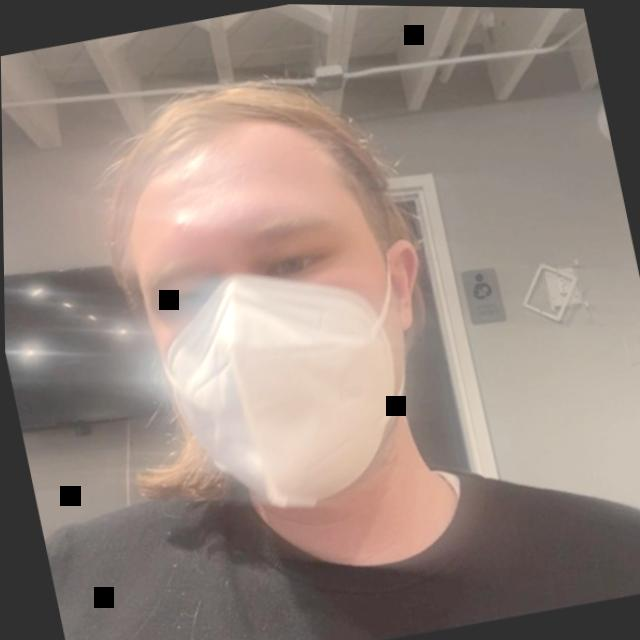Mask: (69, 29, 556, 619)
